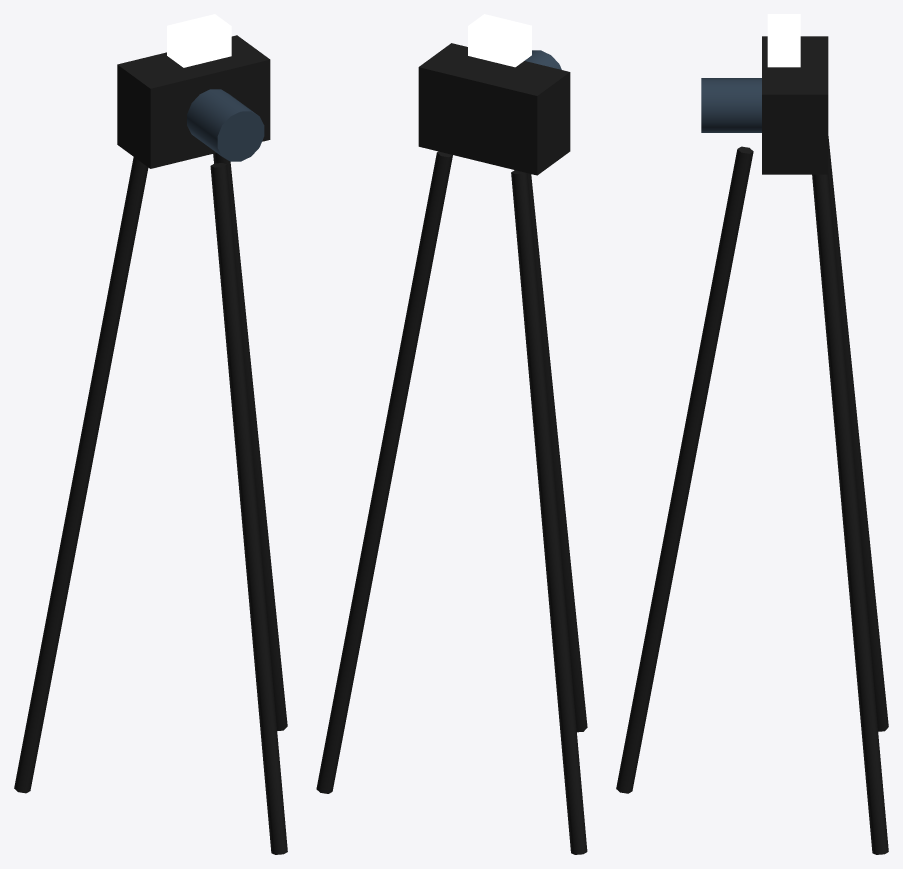
The model's file is camera_tripod.glb.
3 views of the same model, side by side, from view 1: azimuth 30°, elevation 25°; view 2: azimuth 150°, elevation 25°; view 3: azimuth 270°, elevation 25° (orthographic).
Visible parts, largest first — view 1: camera_tripod; view 2: camera_tripod; view 3: camera_tripod.
Boxes of the visible parts, bbox=[...] form: camera_tripod: bbox=[14, 14, 287, 854]; camera_tripod: bbox=[316, 14, 587, 854]; camera_tripod: bbox=[616, 14, 888, 854].
Bounding box in the file's own units: 0.5623 × 1.53 × 0.4949.
